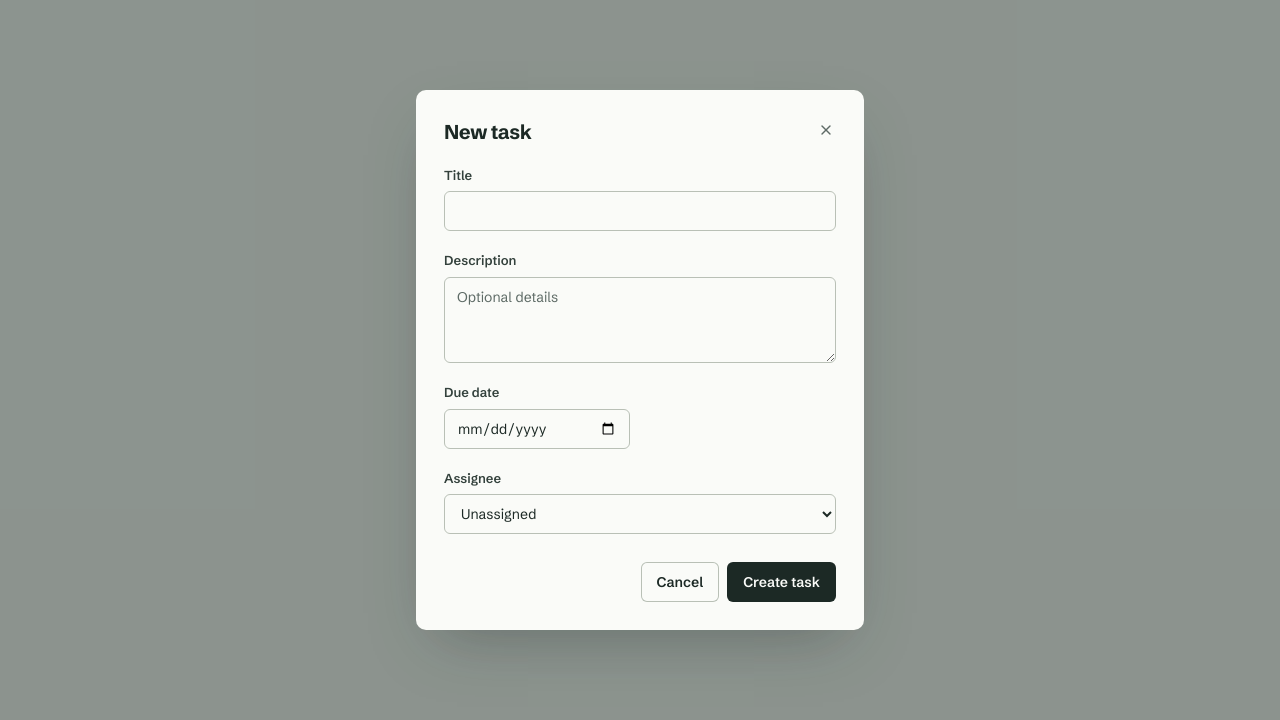
Test: TaskFormModal: creating › requires a title and sends nothing without one
Click the button "Create task" at (782, 582), box [727,562,836,602]
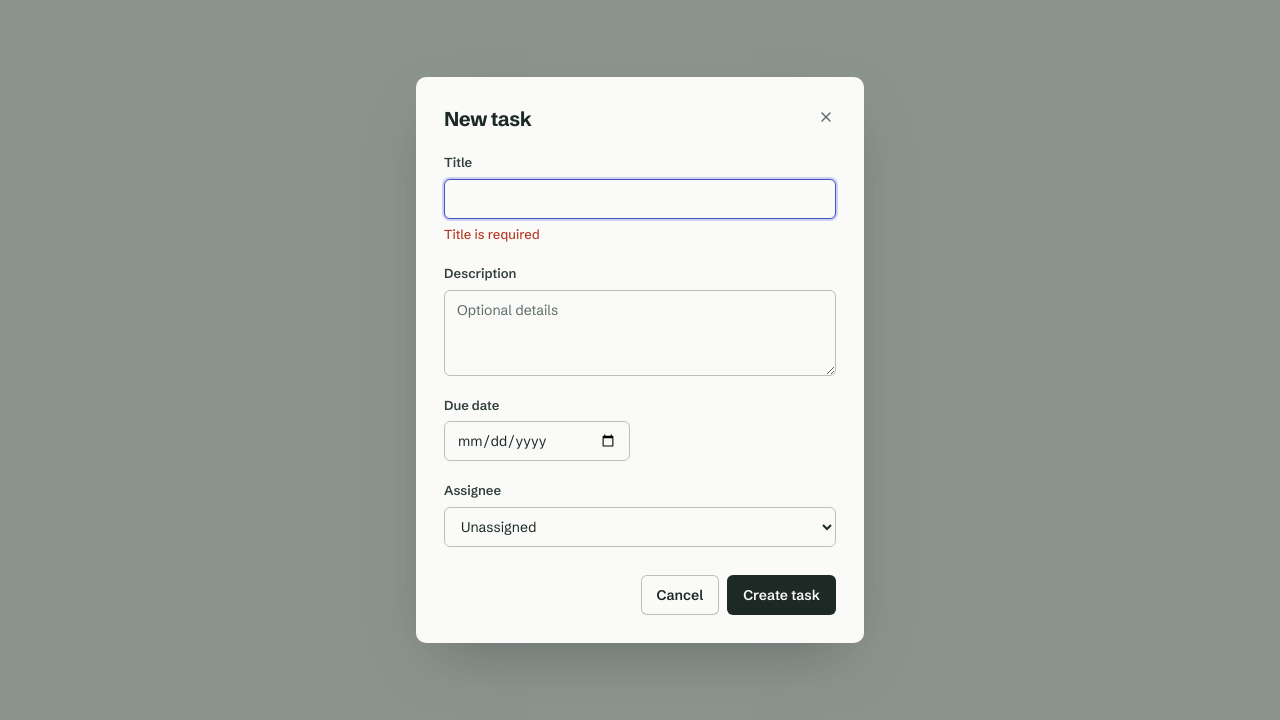
Check: the text "Title is required" is shown, box [444,226,540,242]
